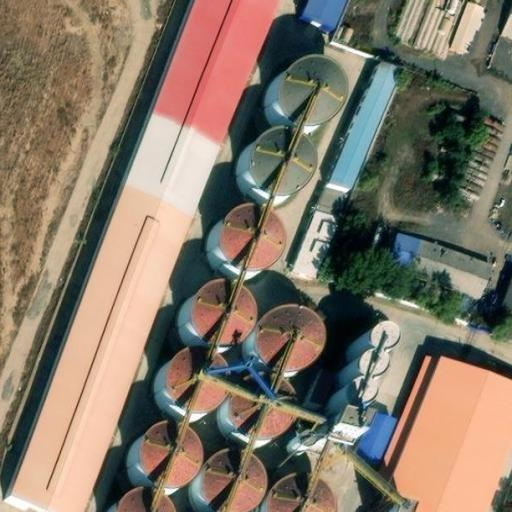building: (0, 0, 283, 511), (368, 361, 512, 512), (324, 61, 400, 213), (389, 231, 490, 299), (270, 62, 335, 126), (242, 131, 307, 195), (161, 343, 226, 407), (133, 419, 198, 483), (208, 444, 272, 509), (263, 305, 327, 369), (213, 206, 277, 270), (185, 276, 249, 340), (231, 373, 295, 437), (298, 203, 348, 272), (271, 468, 335, 512), (356, 413, 402, 470), (452, 0, 495, 58), (335, 454, 384, 492), (110, 487, 174, 512), (488, 17, 511, 80), (355, 334, 383, 363), (330, 392, 358, 420), (340, 364, 367, 392), (316, 370, 338, 404)
